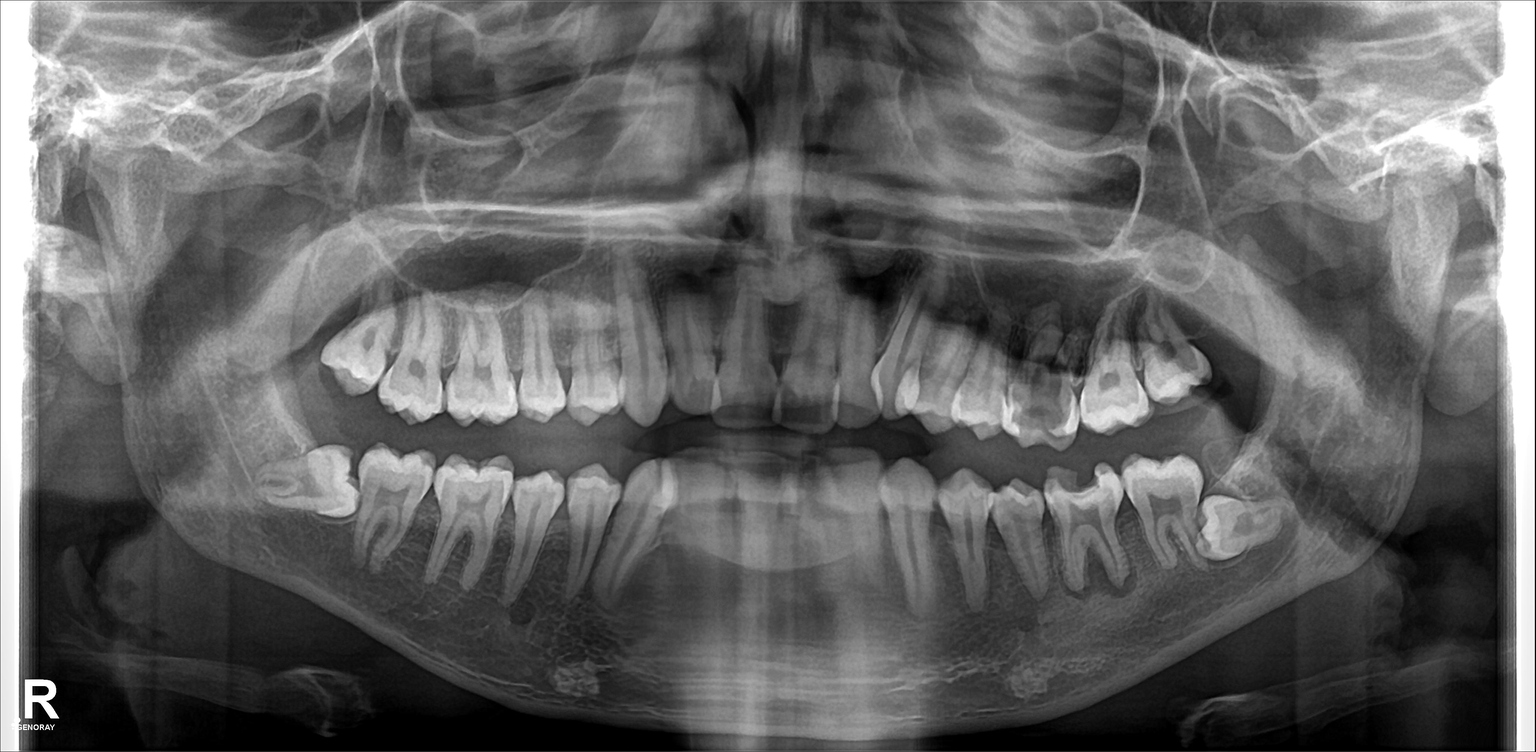Dental Caries: (998, 376, 1076, 434)
Impacted Third Molar: (266, 456, 356, 514), (1207, 504, 1286, 556)
Missing Tooth: (845, 460, 886, 609)
